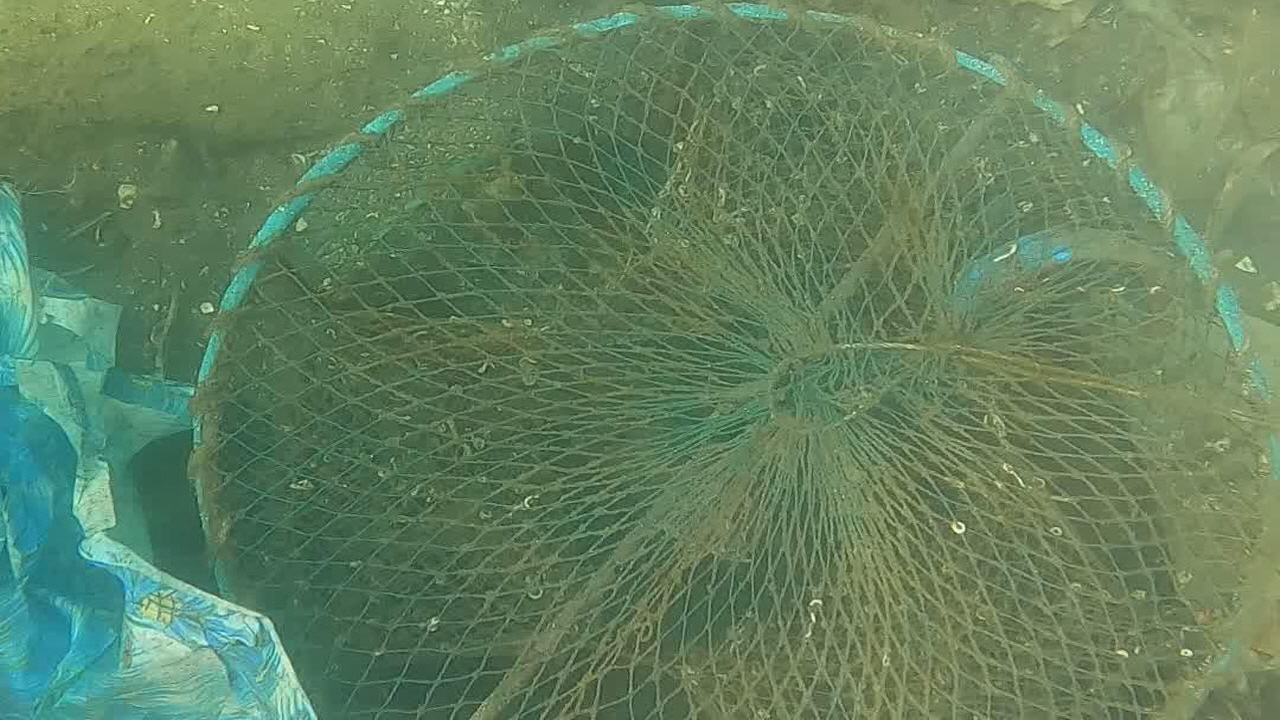circular fish trap: (190, 3, 1280, 720)
